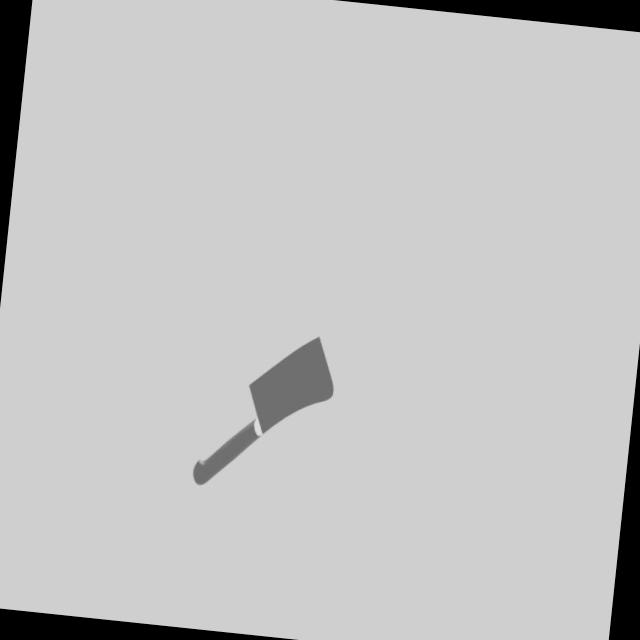knife: (191, 411, 264, 490)
